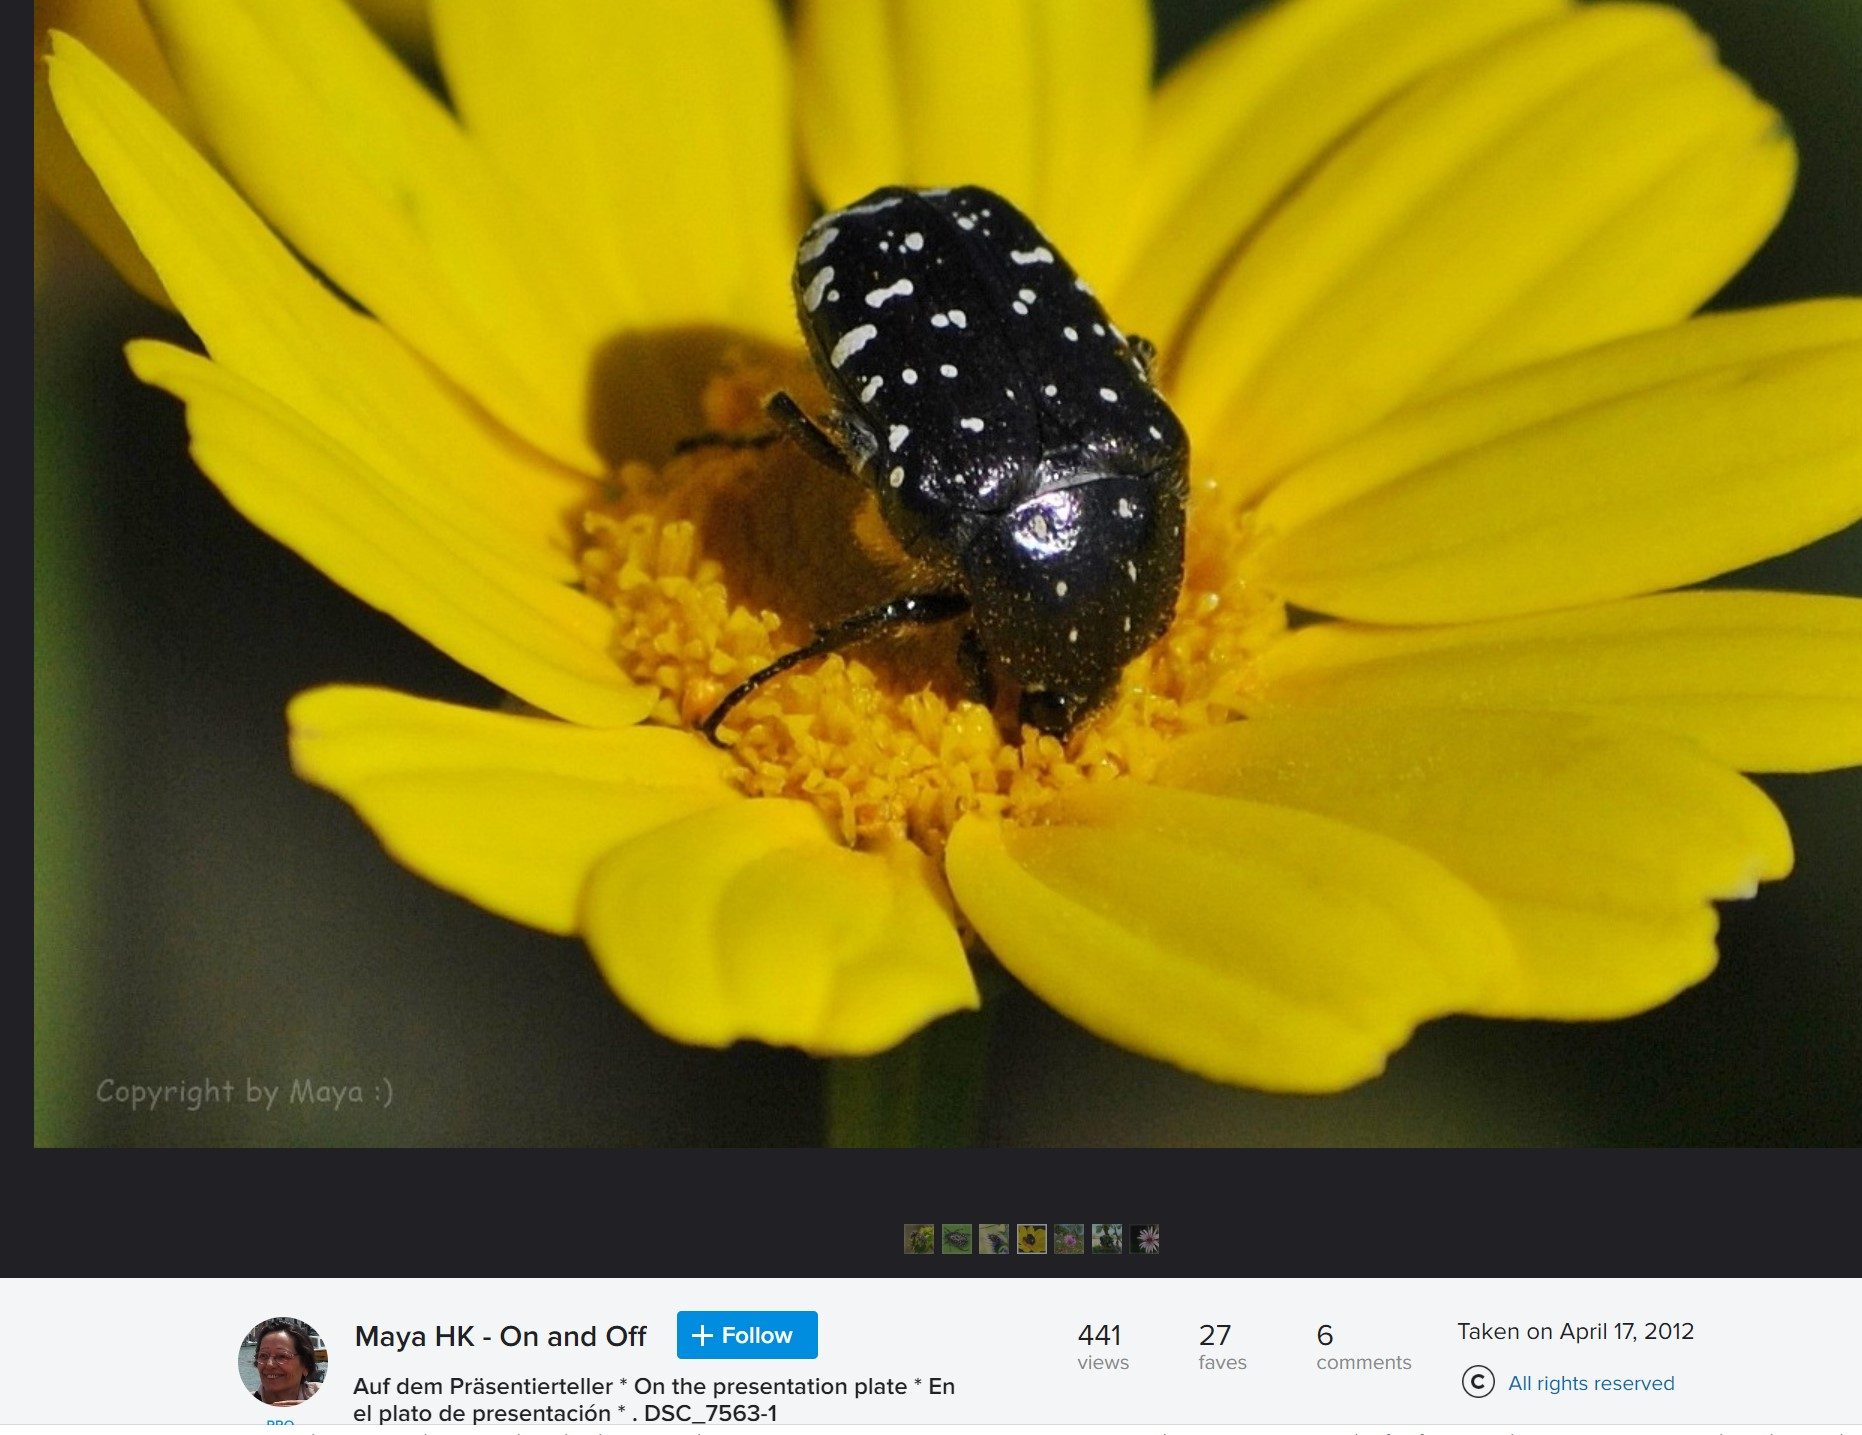Oxythyrea_funesta: (663, 139, 1223, 751)
